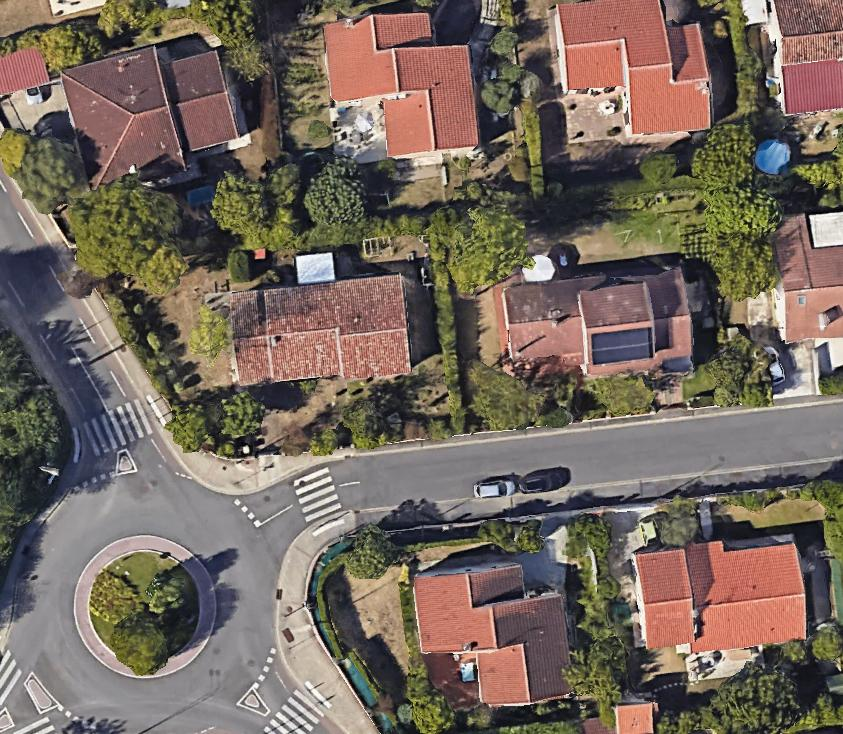maison: (60, 35, 246, 195), (409, 556, 574, 715), (323, 5, 478, 163), (548, 0, 715, 143), (630, 530, 811, 660), (229, 270, 432, 384), (497, 267, 693, 380), (773, 212, 842, 371), (770, 0, 842, 115)
